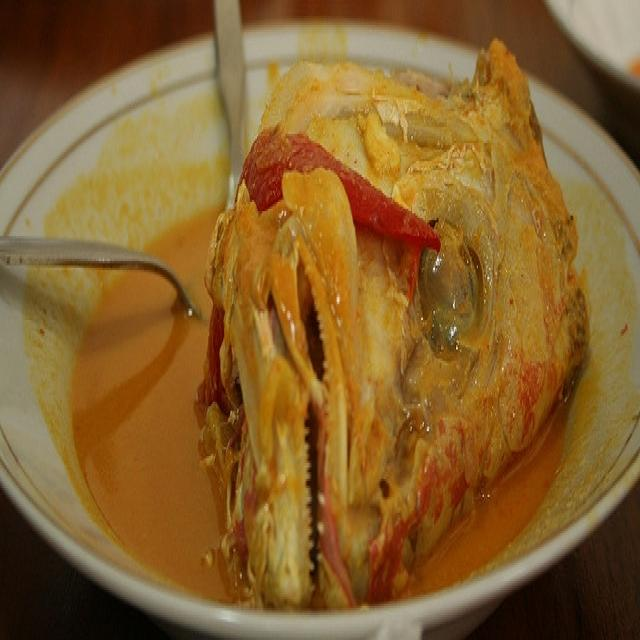熟制海鲜: (16, 27, 632, 620)
